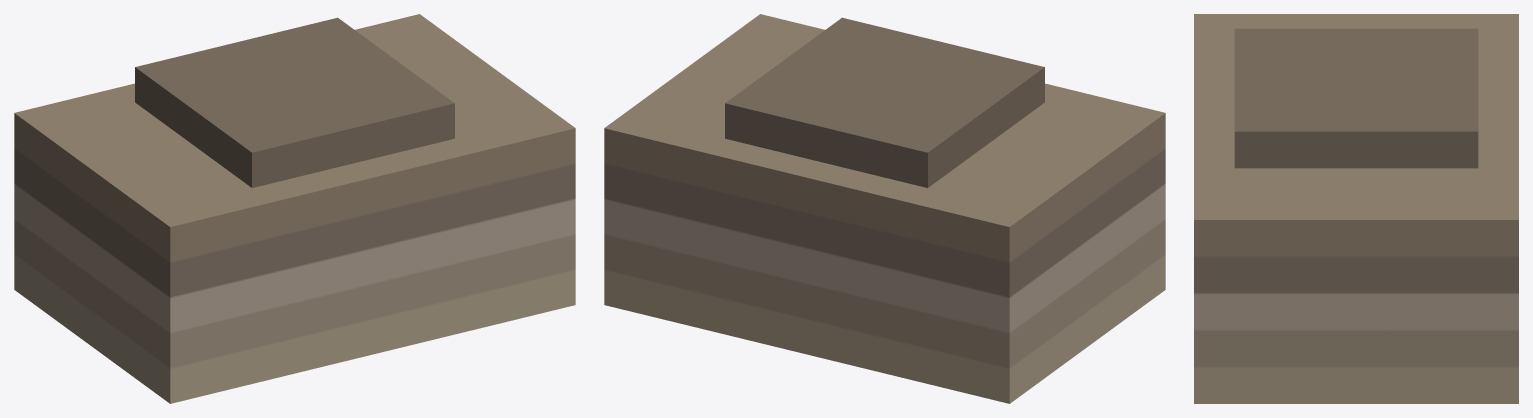
Rendered from Chest051.fbx.
The picture shows the model from 3 angles, left to right: view 1: azimuth 30°, elevation 25°; view 2: azimuth 150°, elevation 25°; view 3: azimuth 270°, elevation 25°; orthographic projection. The views are drawn at different scales.
Visible parts, largest first — view 1: Chest051; view 2: Chest051; view 3: Chest051.
Boxes of the visible parts, box(x1,y1,x2,y2) form: Chest051: box(14, 14, 575, 403); Chest051: box(604, 14, 1165, 403); Chest051: box(1194, 14, 1518, 403).
Size of the model in its own units: 12 by 6 by 8.
